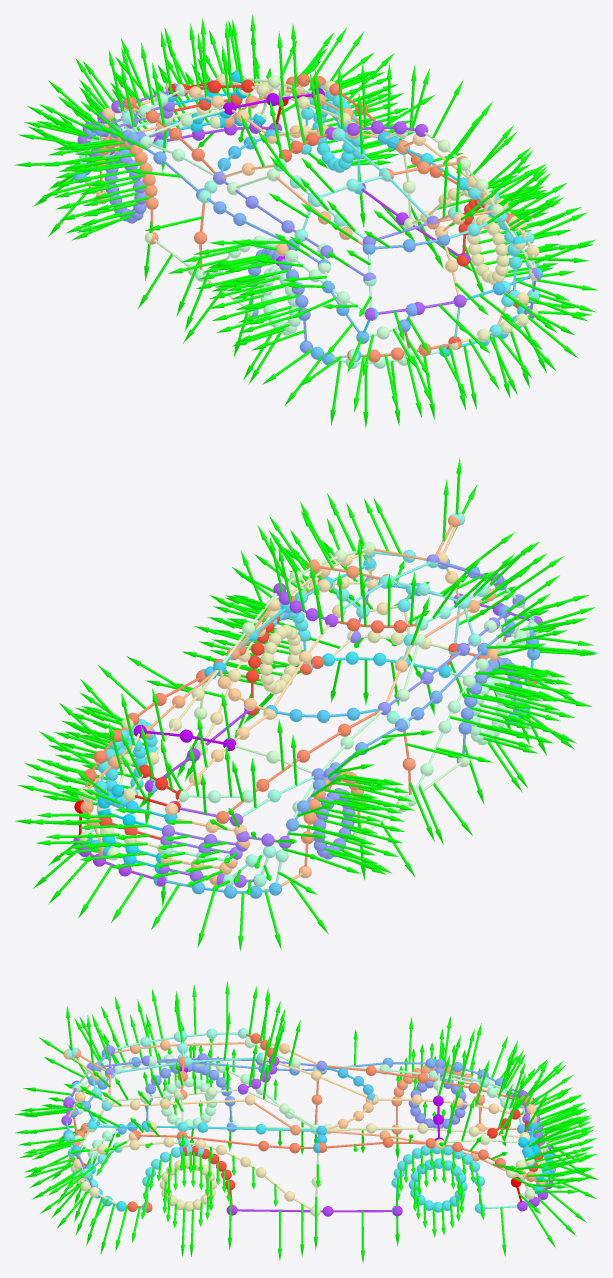
Rendered from ils_car4.gltf.
The picture shows the model from 3 angles, top to bottom: view 1: azimuth 30°, elevation 25°; view 2: azimuth 150°, elevation 25°; view 3: azimuth 270°, elevation 25°; orthographic projection. The views are drawn at different scales.
Bounding box in the file's own units: 0.5682 × 0.4301 × 1.09.
